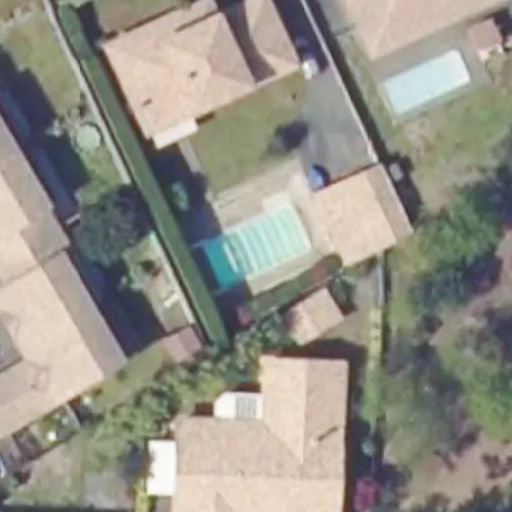pool: (196, 234, 310, 249)
